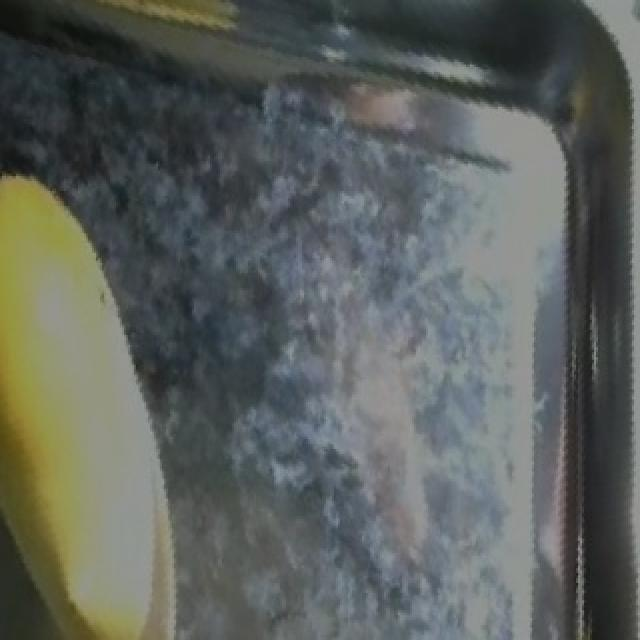fruit: (0, 139, 198, 511), (14, 0, 286, 55)
